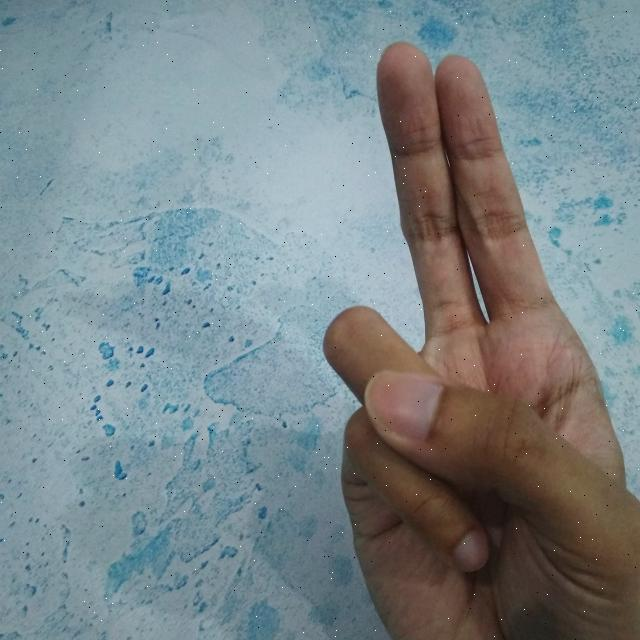U: (322, 36, 640, 640)
